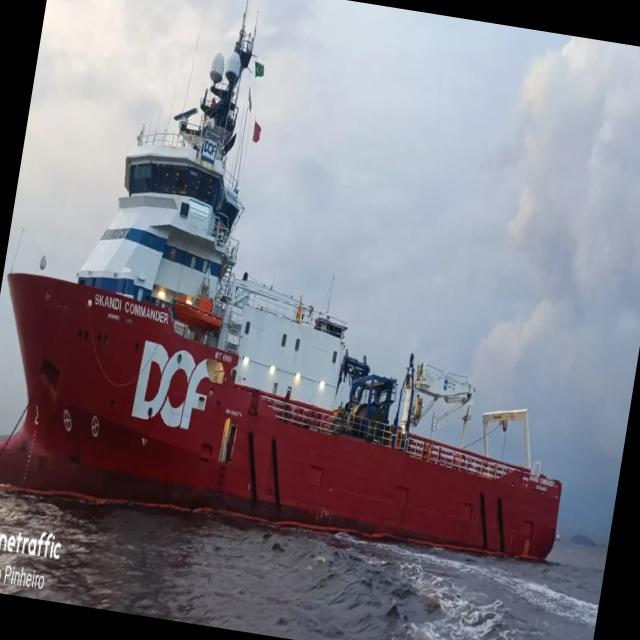Offshore: (0, 8, 561, 559)
